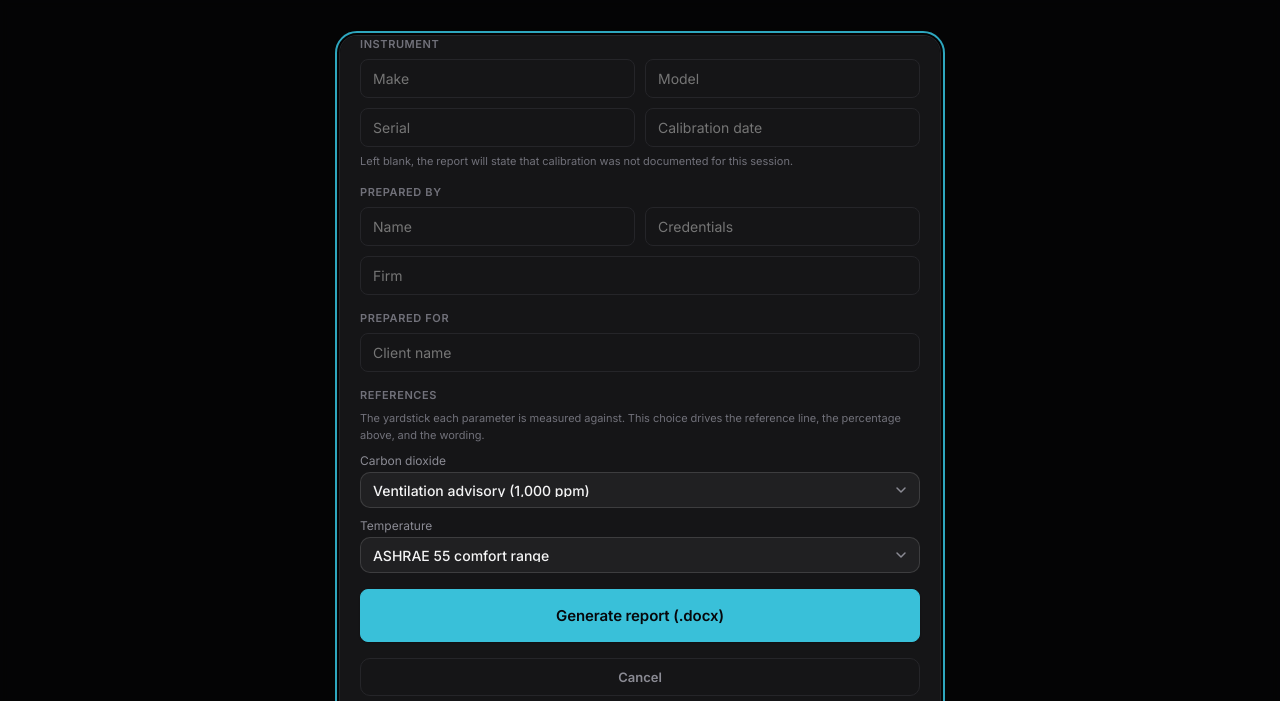
Test: failure is reported, never swallowed › shows the error instead of appearing to succeed
(page scrolled)
Click the button "Generate report (.docx)" at (640, 616), box [360,589,920,642]
(page scrolled)
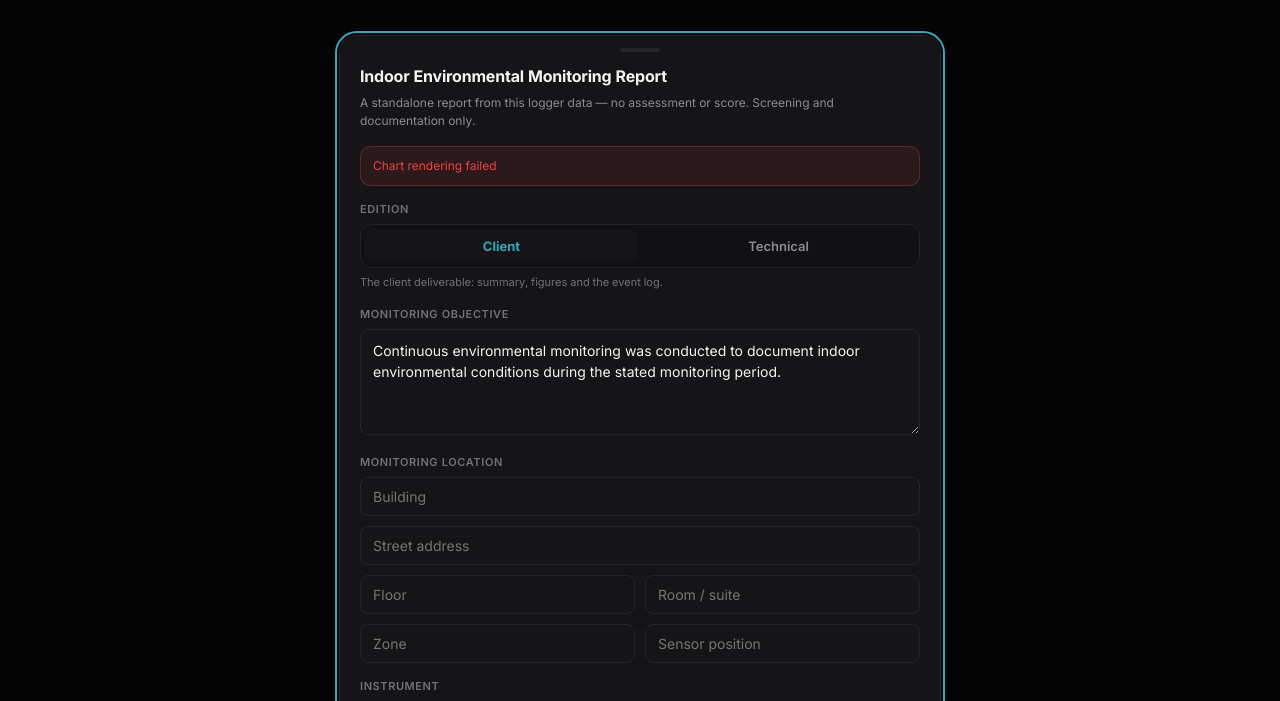
Now the text "Chart rendering failed" is shown, box [360,146,920,186]
